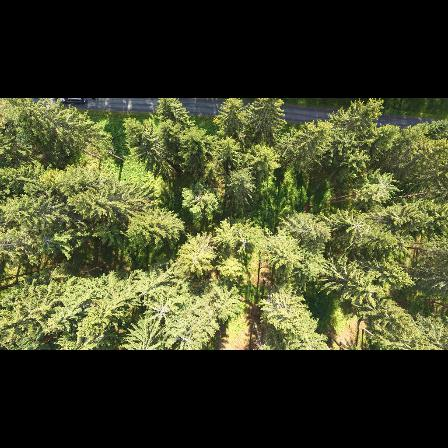Sick: (365, 170, 398, 200), (228, 227, 259, 255), (145, 298, 175, 325), (344, 214, 373, 239)
